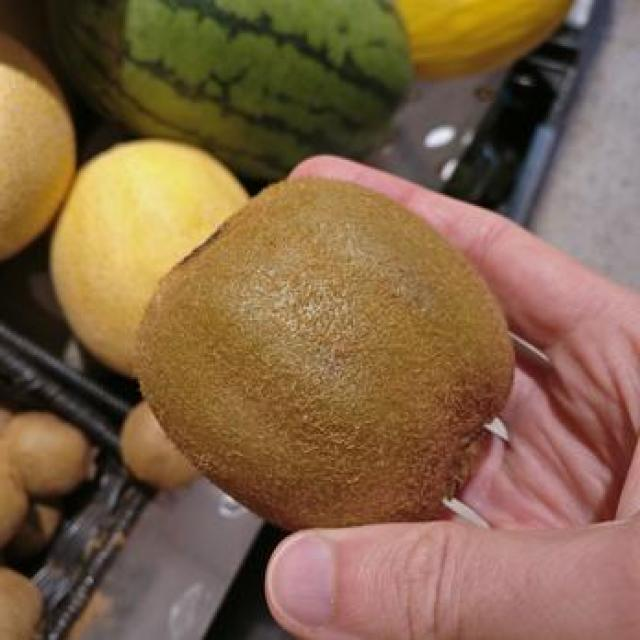kiwi: (139, 179, 512, 527), (6, 412, 94, 496), (121, 401, 200, 489), (0, 568, 42, 640), (6, 506, 61, 559), (0, 471, 29, 548)
